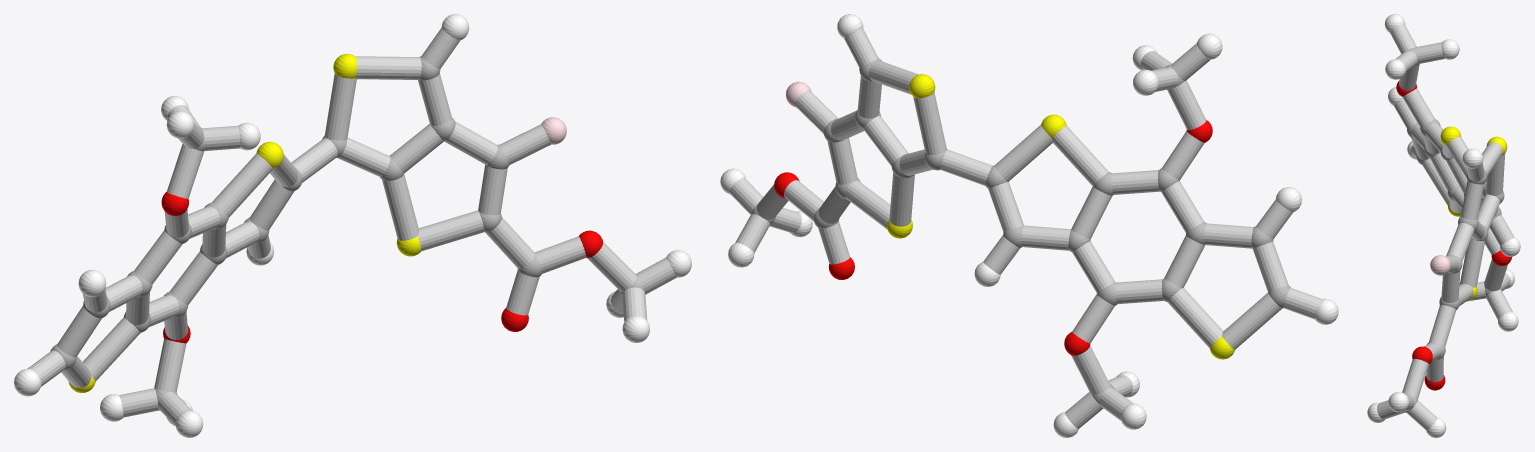
The model's file is Dimethoxy_Benzodithiophene_Phi_30_Theta_140_Methylcarbonyl_3_Fluoro_Thienothiophene.glb.
3 renders of one model, left to right at view 1: azimuth 30°, elevation 25°; view 2: azimuth 150°, elevation 25°; view 3: azimuth 270°, elevation 25°, orthographic. The views are drawn at different scales.
Parts seen in each view (by area): view 1: grp15205, grp8689, grp1, grp13395, grp7241; view 2: grp15205, grp8689, grp1, grp7241, grp13395; view 3: grp15205, grp8689, grp1, grp13395, grp7241, grp14843.
Part boxes in pixels (<box>): grp15205: <box>27,28,676,426</box>; grp8689: <box>14,14,691,437</box>; grp1: <box>50,56,645,410</box>; grp13395: <box>161,192,602,343</box>; grp7241: <box>68,53,421,393</box>; grp15205: <box>729,28,1321,428</box>; grp8689: <box>720,14,1338,437</box>; grp1: <box>751,58,1290,403</box>; grp7241: <box>887,74,1234,359</box>; grp13395: <box>774,120,1212,355</box>; grp15205: <box>1377,24,1514,430</box>; grp8689: <box>1367,14,1520,437</box>; grp1: <box>1403,47,1504,412</box>; grp13395: <box>1396,81,1511,390</box>; grp7241: <box>1440,126,1507,300</box>; grp14843: <box>1430,255,1450,275</box>.
Bounding box in the file's own units: 16.54 × 9.24 × 4.45.
